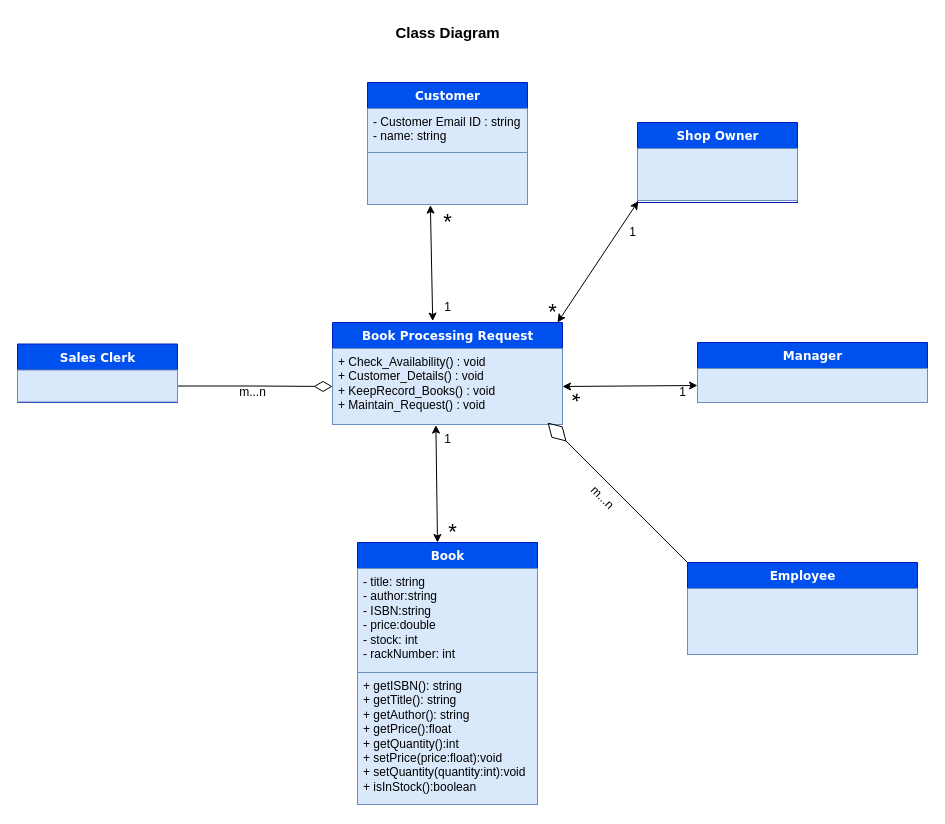
Image size: 945x824. Some labels were removed from this diagram. Here are the shapes that lost their labels. From the top down, the centre of each, then its label:
(447,178): + Search() : string + setQuantity( int ): void + getTotalPrice(): float
(717,174): + recordSalesDetails (period of time) : void
(97,385): +Enter_ISBN() : void
(812,385): + ViewRequestField() : void
(802,621): + addBook(book: Book): void + updateStock(ISBN: string,quantity: int): void
